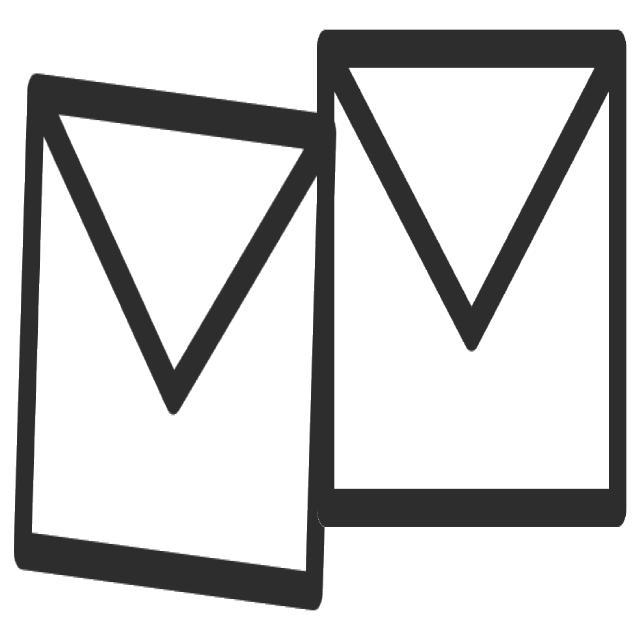letter: (10, 31, 345, 629), (306, 12, 637, 579)
